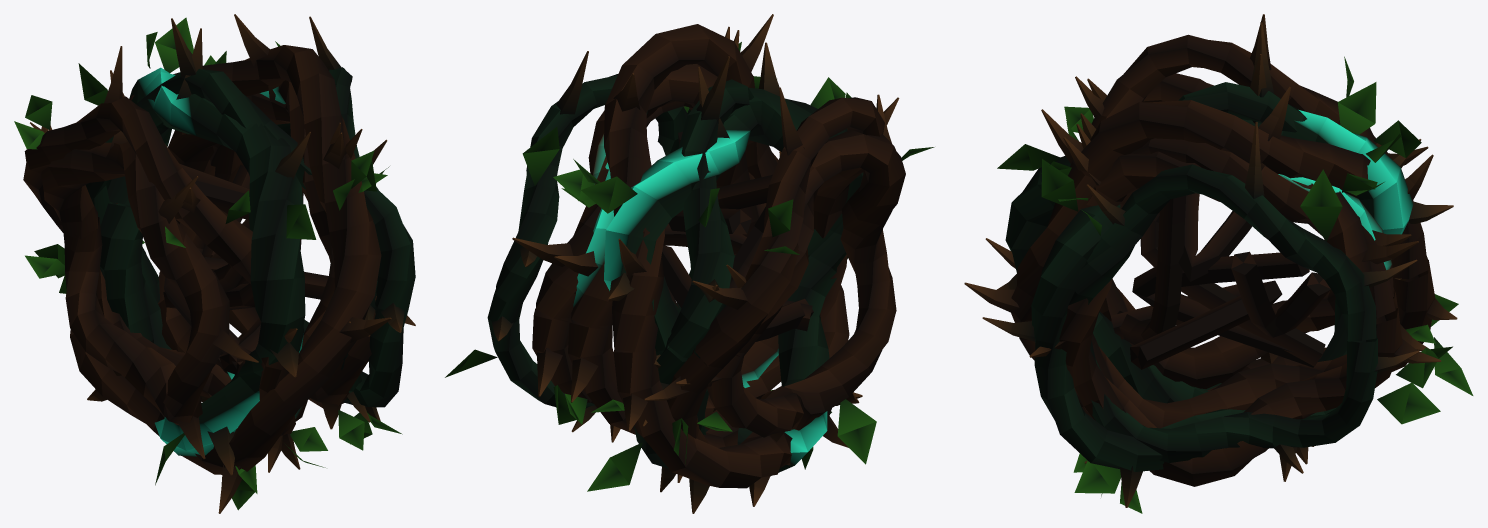
The model's file is SM_VineWheel_D.fbx.
3 renders of one model, left to right at view 1: azimuth 30°, elevation 25°; view 2: azimuth 150°, elevation 25°; view 3: azimuth 270°, elevation 25°, orthographic. The views are drawn at different scales.
Parts seen in each view (by area): view 1: SM_VineWheel_D; view 2: SM_VineWheel_D; view 3: SM_VineWheel_D.
Boxes of the visible parts, bbox=[...] form: SM_VineWheel_D: bbox=[14, 14, 415, 513]; SM_VineWheel_D: bbox=[445, 14, 934, 513]; SM_VineWheel_D: bbox=[964, 14, 1473, 513].
Bounding box in the file's own units: 1.44 × 2.05 × 2.07.
